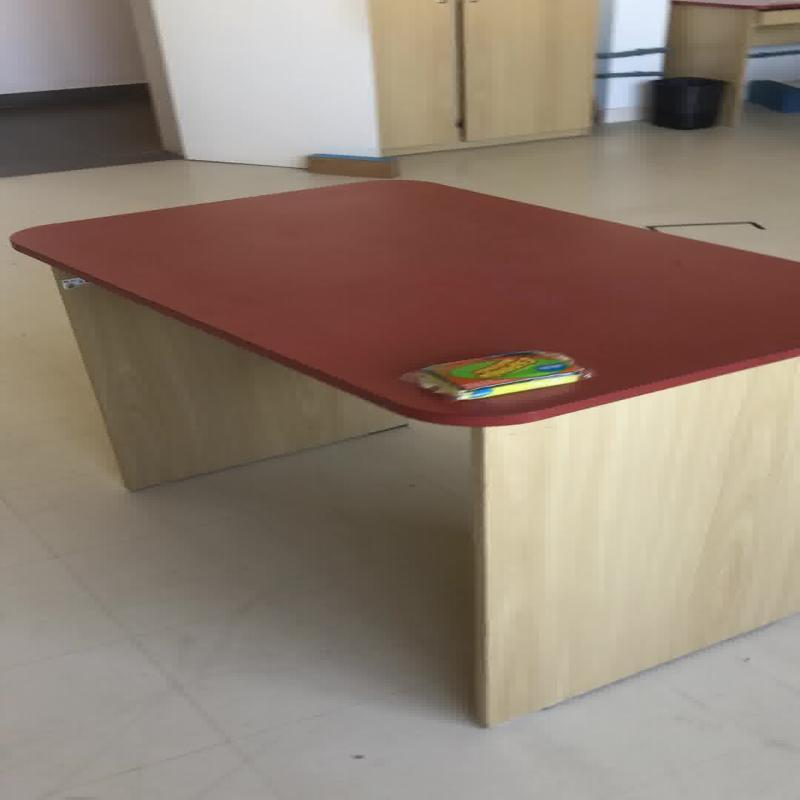sponge: (400, 348, 593, 401), (417, 348, 574, 390)
